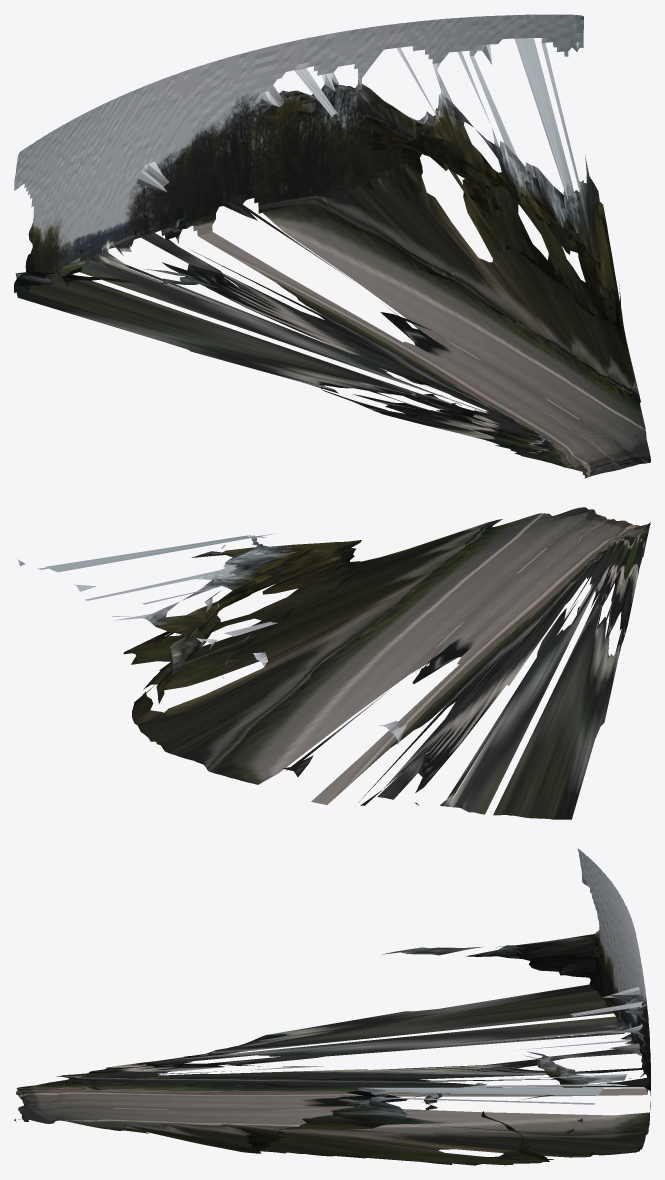
The picture shows the model from 3 angles, top to bottom: view 1: azimuth 30°, elevation 25°; view 2: azimuth 150°, elevation 25°; view 3: azimuth 270°, elevation 25°; orthographic projection. The views are drawn at different scales.
Parts seen in each view (by area): view 1: defaultobject; view 2: defaultobject; view 3: defaultobject.
Part boxes in pixels (bbox=[...]): defaultobject: bbox=[14, 14, 650, 478]; defaultobject: bbox=[17, 507, 650, 819]; defaultobject: bbox=[14, 848, 650, 1165].
Size of the model in its own units: 40.83 by 12.09 by 44.63.
Materials: 1 (1 with a texture image).
